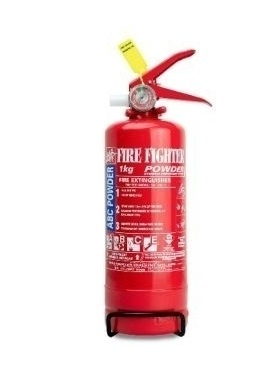fire_extinguisher: (103, 38, 213, 338)
